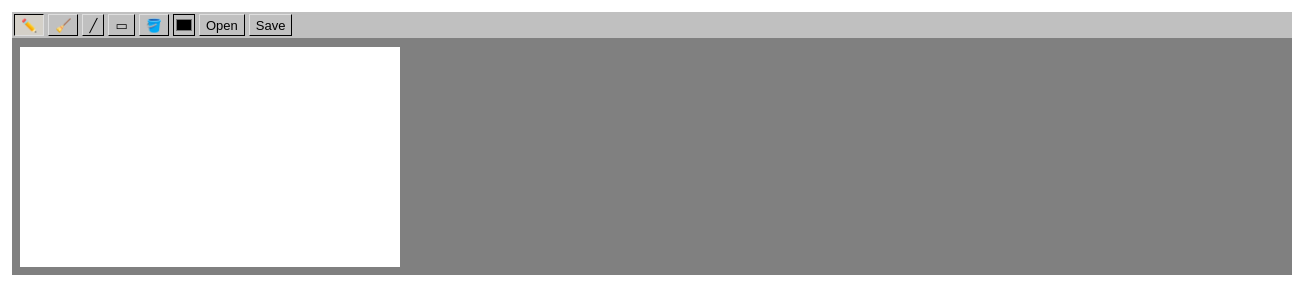
Scenario: Open › shows an empty state when there are no saved images
Click the button "Open": {"x": 222, "y": 25} x1=199 y1=14 x2=245 y2=36
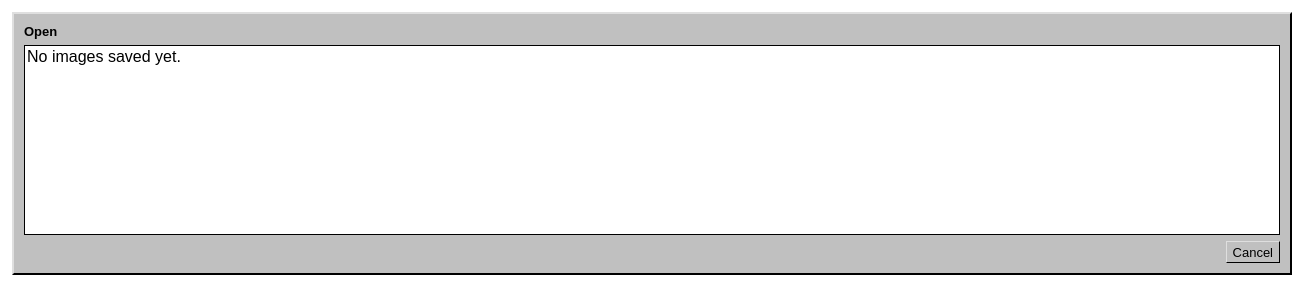
Expected: the list item "No images saved yet." is shown, x1=27 y1=48 x2=181 y2=65
